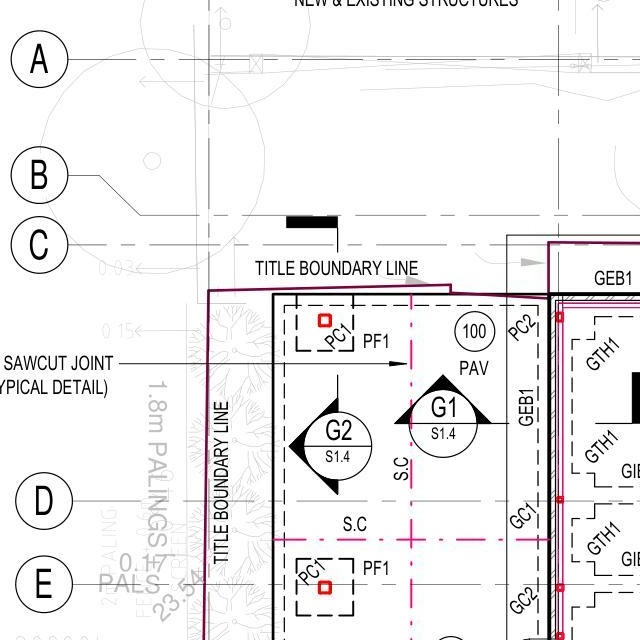GC1: (504, 493, 538, 530)
GC2: (510, 582, 539, 617)
GEB1: (588, 258, 630, 291), (511, 381, 536, 431)
GTH1: (580, 339, 624, 372), (577, 428, 619, 462), (583, 519, 621, 553)
PAV: (452, 355, 496, 378)
PC1: (317, 316, 348, 348), (296, 557, 324, 587)
PC2: (506, 310, 534, 338)
PF1: (359, 548, 392, 582), (359, 326, 391, 352)
